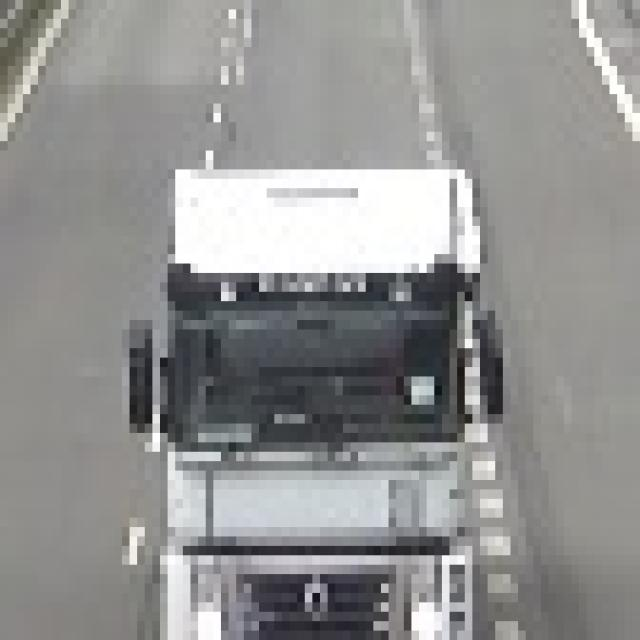TRUCK: (126, 168, 488, 637)
